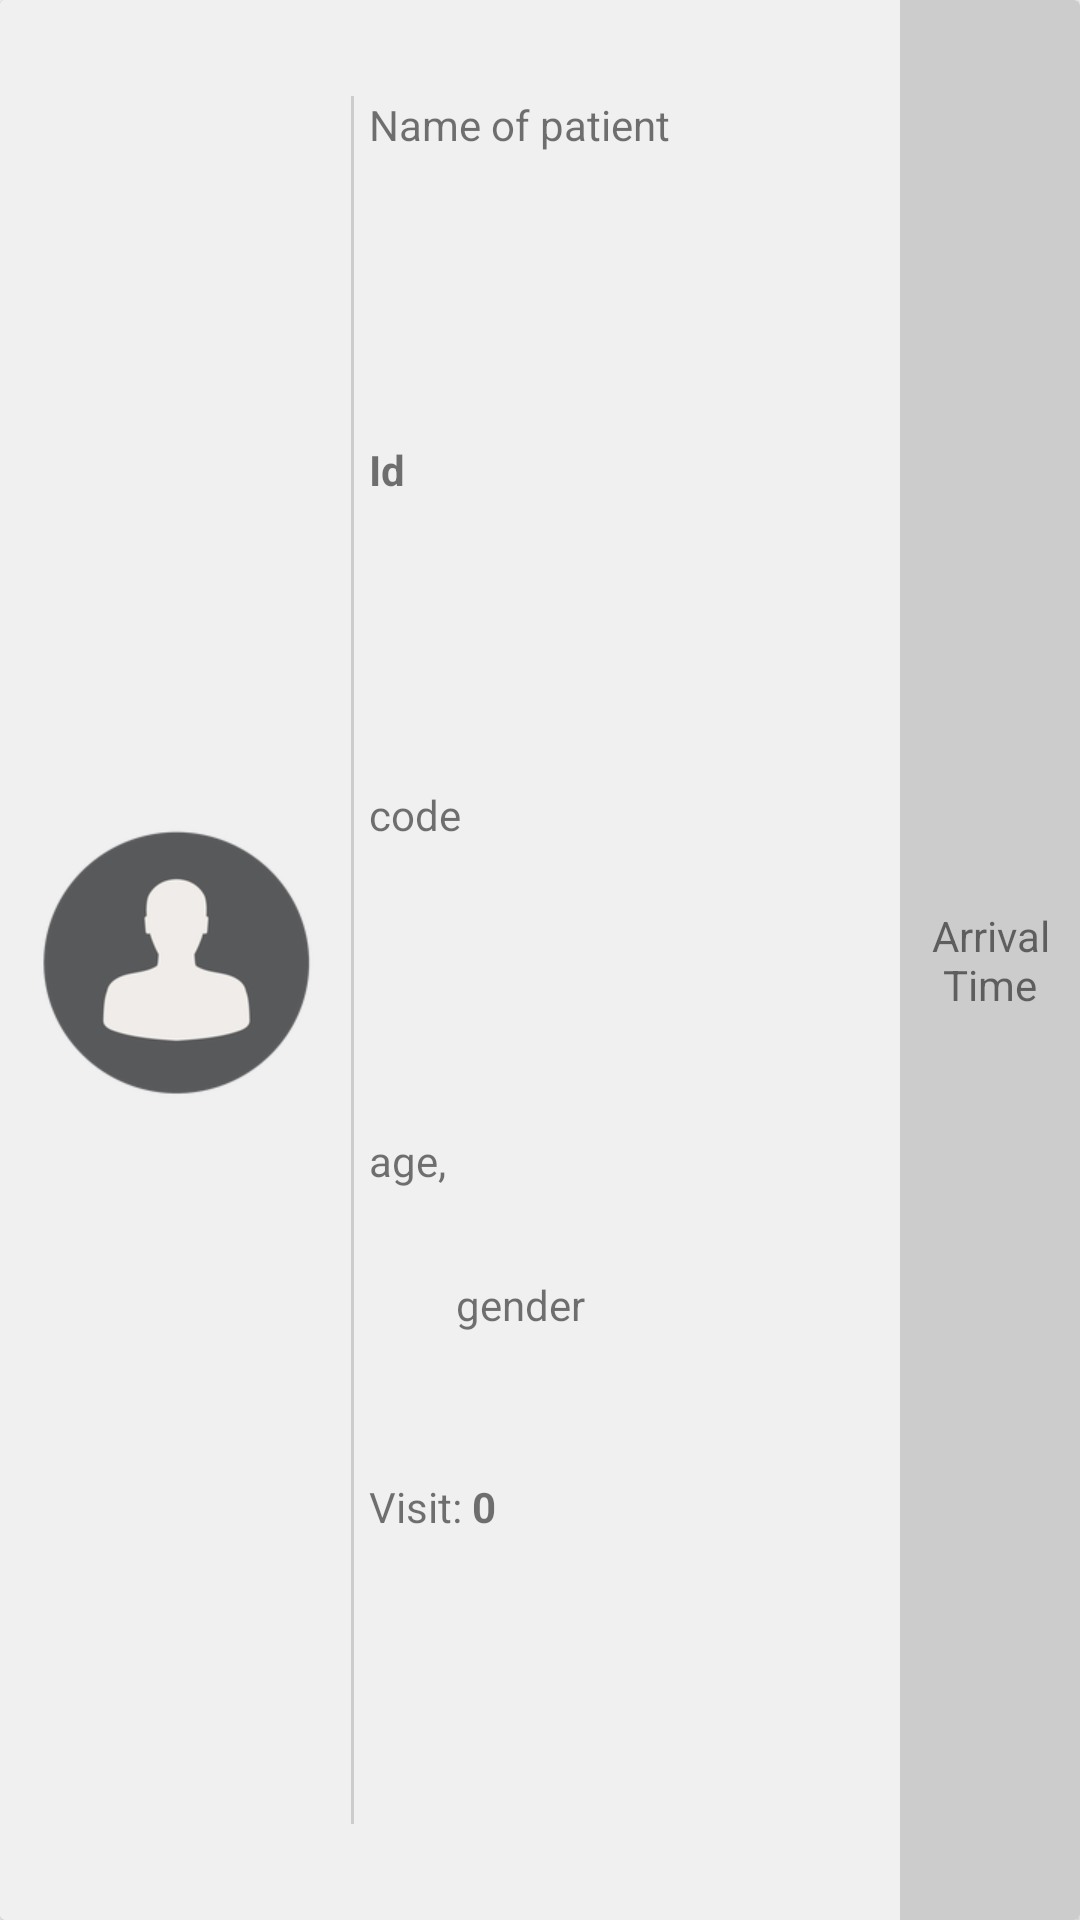

Named icons in this screenshot (1080*1920) and their centers, [x,y]:
patient: [176,962]
